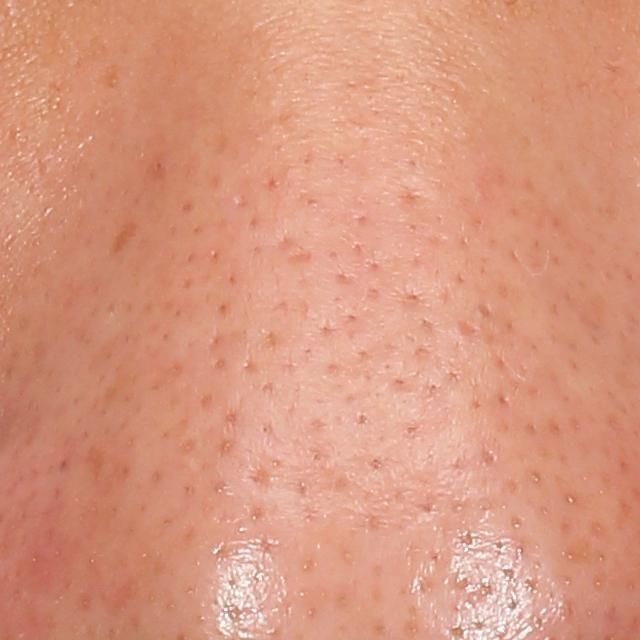melasma: (109, 218, 140, 257)
